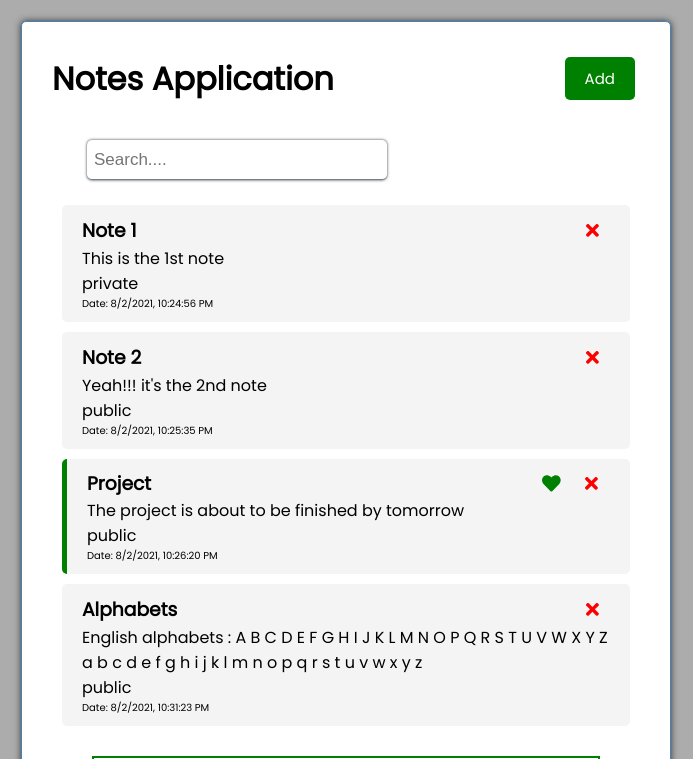
Notes Application › Search testing: Search for notes › Where title: Note
In the field with id "search": (237, 160) [87,140,387,180], type "note"
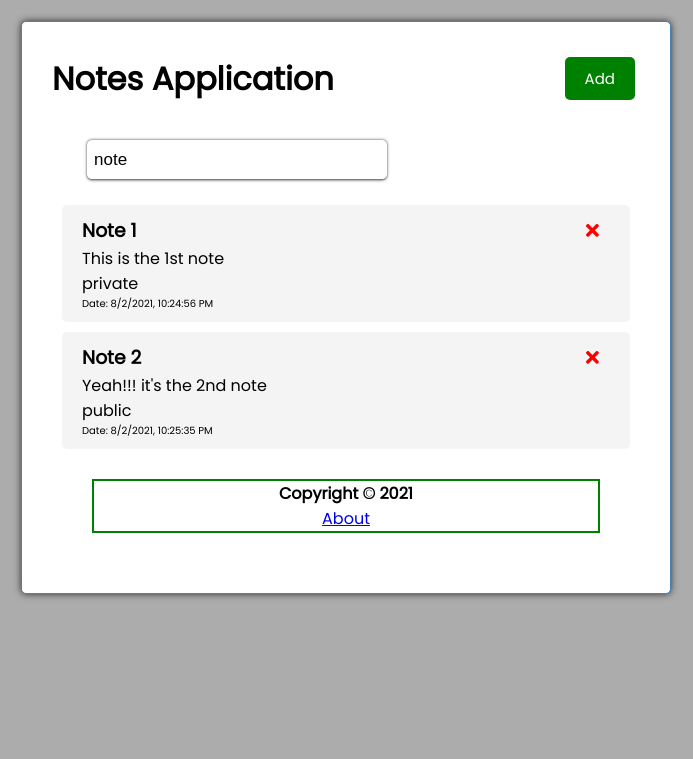
Result: the number of elements with class "notes-item" is at least 2 at [52,205,640,322]
